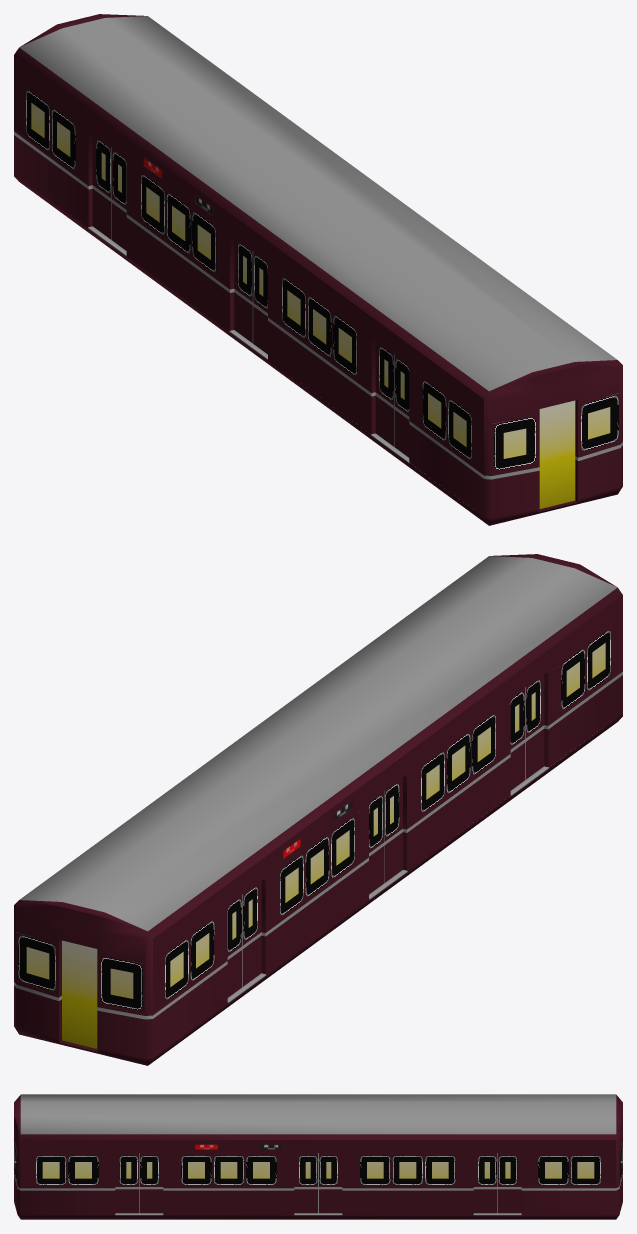
3 renders of one model, top to bottom at view 1: azimuth 30°, elevation 25°; view 2: azimuth 150°, elevation 25°; view 3: azimuth 270°, elevation 25°, orthographic. The views are drawn at different scales.
Parts seen in each view (by area): view 1: IN; view 2: IN; view 3: IN.
Part boxes in pixels (x1,y1,x2,y2): IN: (14,14,622,525); IN: (14,554,622,1065); IN: (14,1094,622,1219).
Bounding box in the file's own units: 6.59 × 6.42 × 39.09.
Materials: 7 (6 with a texture image).
